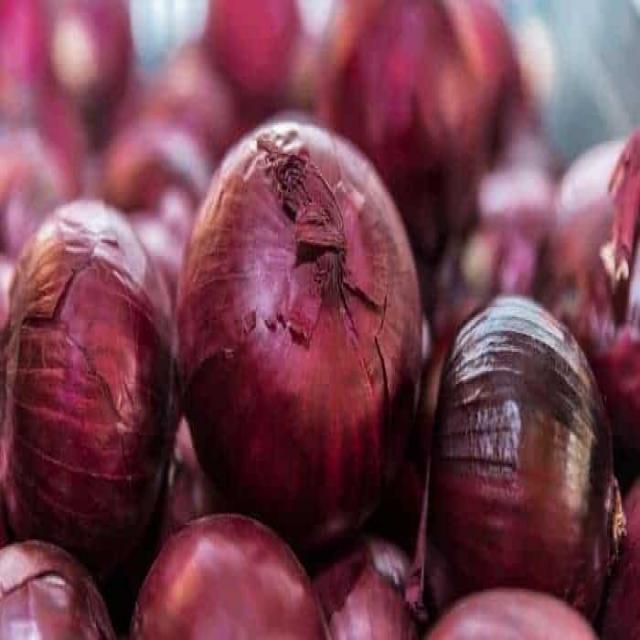Onion: (176, 118, 427, 580), (0, 199, 178, 583), (423, 294, 627, 628), (321, 0, 541, 292), (133, 514, 327, 640), (572, 123, 640, 479), (430, 167, 554, 351), (0, 0, 134, 147), (107, 34, 234, 142), (205, 0, 313, 121), (0, 537, 114, 640), (321, 540, 433, 640), (3, 129, 84, 257), (105, 118, 210, 214), (427, 585, 604, 640), (585, 482, 639, 640), (131, 189, 189, 303), (160, 423, 209, 529), (2, 260, 19, 333)
